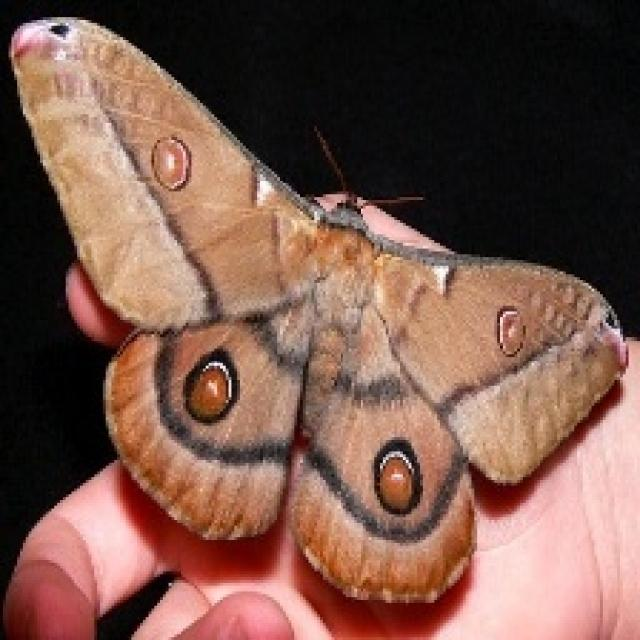butterfly: (6, 11, 628, 606)
